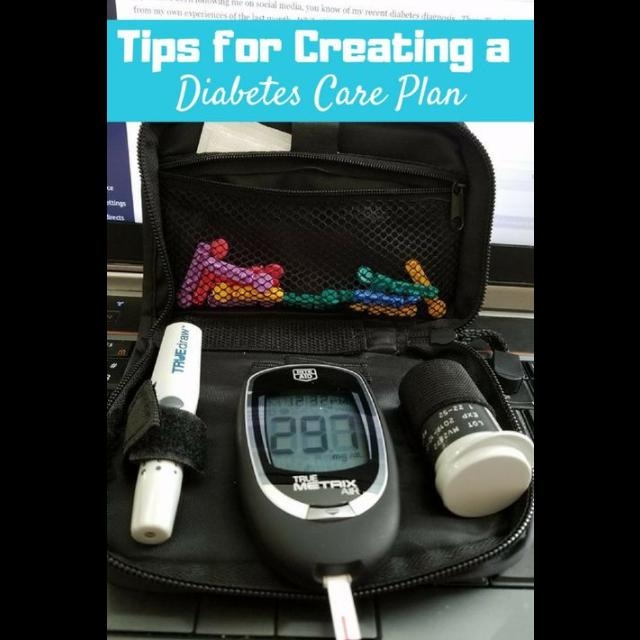Glucose-Meter: (236, 364, 398, 639)
